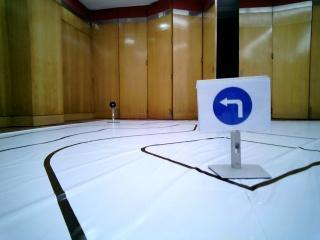left: (203, 80, 267, 133)
